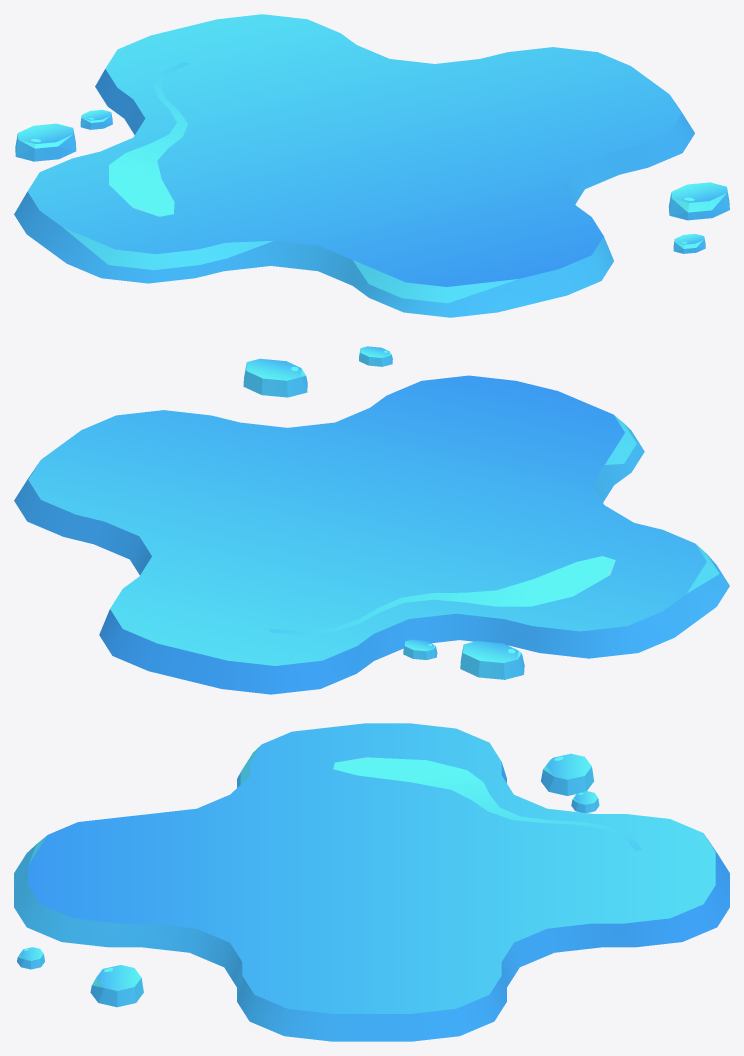
The model's file is waterdrop.glb.
3 renders of one model, top to bottom at view 1: azimuth 30°, elevation 25°; view 2: azimuth 150°, elevation 25°; view 3: azimuth 270°, elevation 25°, orthographic. The views are drawn at different scales.
Parts seen in each view (by area): view 1: waterdrop; view 2: waterdrop; view 3: waterdrop.
Part boxes in pixels (x1,y1,x2,y2): waterdrop: (14,14,729,317); waterdrop: (14,346,729,694); waterdrop: (14,723,729,1041).
Size of the model in its own units: 0.5619 by 0.0197 by 0.5619.
1 material, 1 textured.
